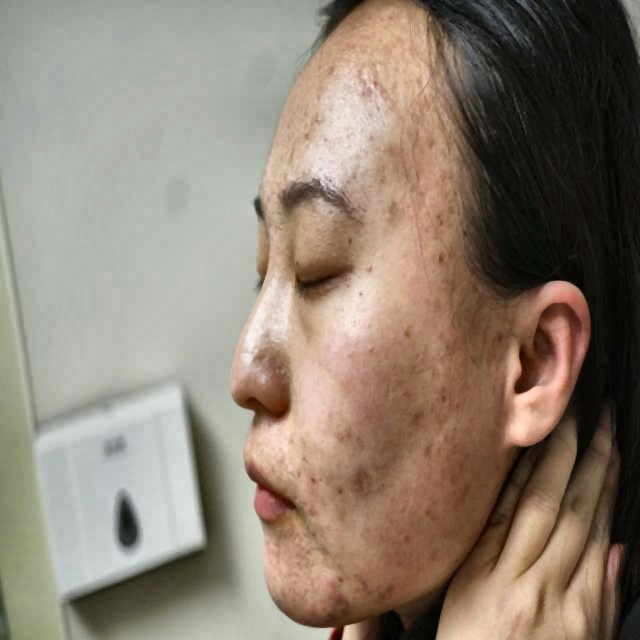pustule: (406, 400, 430, 434), (352, 464, 370, 504), (320, 572, 342, 598), (379, 578, 399, 605), (382, 206, 406, 228), (454, 478, 468, 514), (421, 434, 436, 467), (425, 248, 447, 270), (424, 126, 439, 158), (338, 591, 354, 614), (332, 485, 351, 504), (305, 477, 325, 491)
